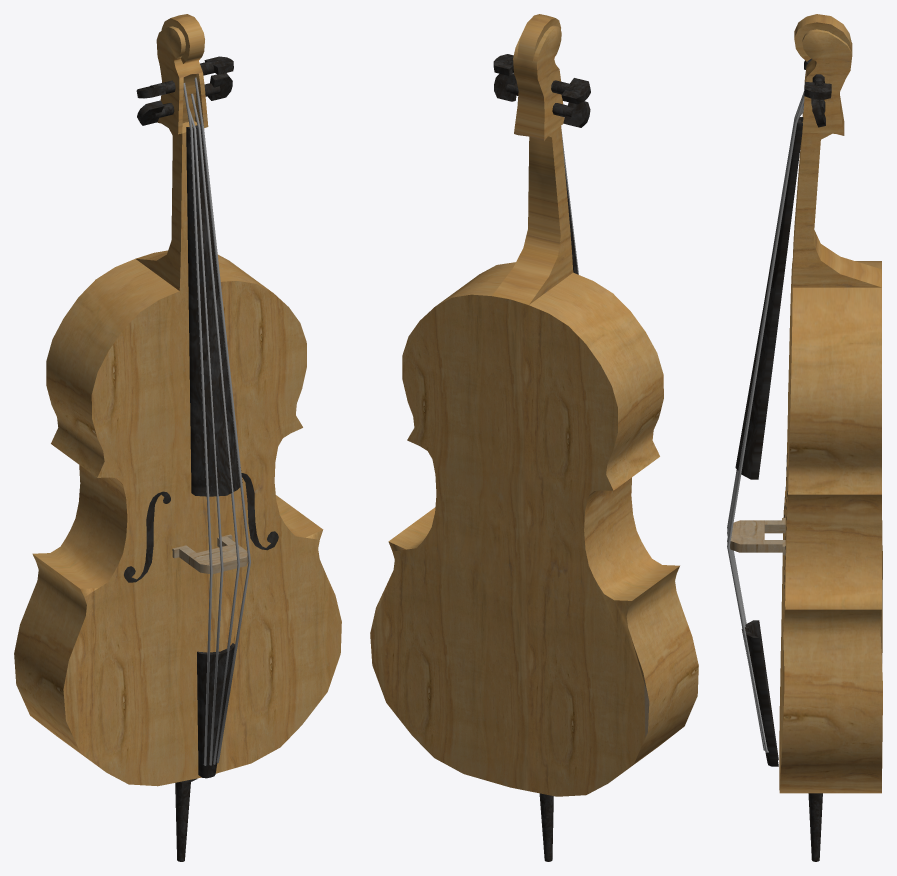
Rendered from ENV_Cello_01.FBX.
The picture shows the model from 3 angles, left to right: view 1: azimuth 30°, elevation 25°; view 2: azimuth 150°, elevation 25°; view 3: azimuth 270°, elevation 25°; orthographic projection.
Parts seen in each view (by area): view 1: ENV_Cello_01; view 2: ENV_Cello_01; view 3: ENV_Cello_01.
Boxes of the visible parts, box(x1,y1,x2,y2) form: ENV_Cello_01: box(14, 14, 341, 861); ENV_Cello_01: box(370, 14, 698, 861); ENV_Cello_01: box(727, 14, 882, 861).
Size of the model in its own units: 63.45 by 183 by 30.58.
Materials: 1 (1 with a texture image).
